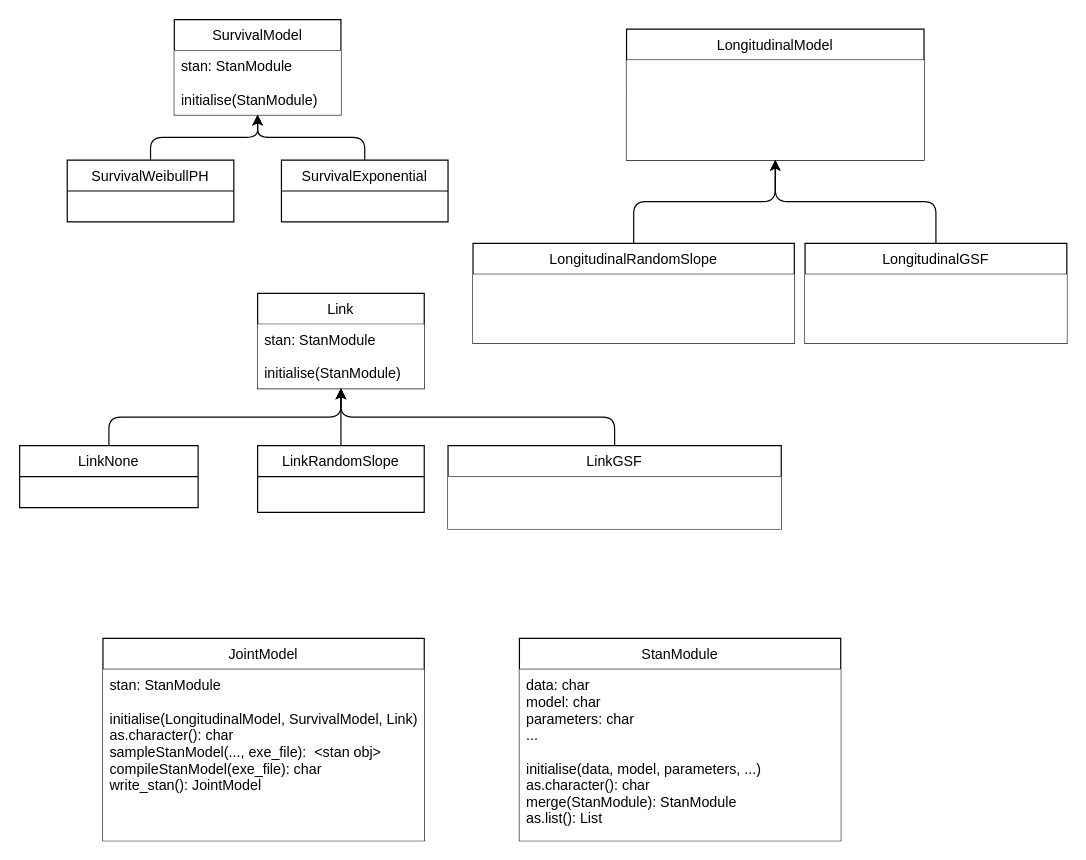
Some shapes in this 1086 by 860 pixel diagram are drawn without their labels. Here are the shapes that lost their labels. From the top down, the centre of each, then its label:
At point (774, 75): "stan: StanModule".
At point (774, 124): "initialise(StanModule) addLink(LinkNone): LongitudinalModel as.list(): List".
At point (633, 308): "addLink(LinkRandomSlope): LongitudinalModel".
At point (935, 308): "addLink(LinkGSF): LongitudinalModel".
At point (614, 502): "addContribution(LinkGSFComponent): LinkGSF".
